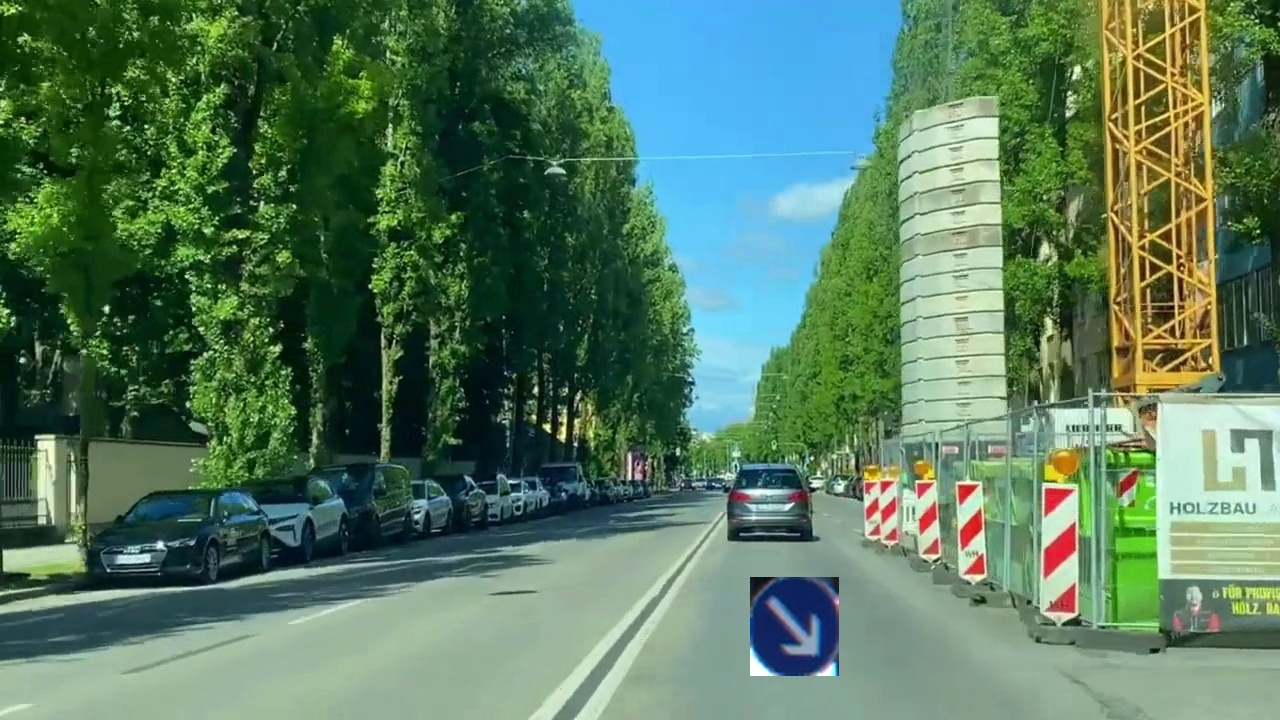Keep right: (750, 577, 839, 676)
